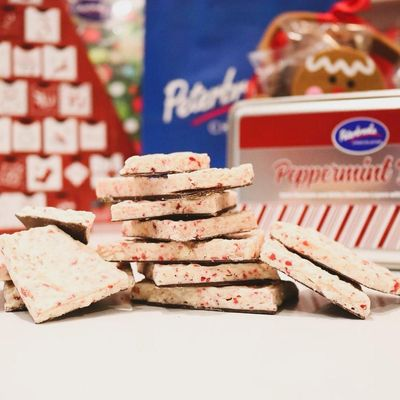soup: (91, 151, 299, 312), (261, 221, 400, 319), (0, 225, 135, 324)
